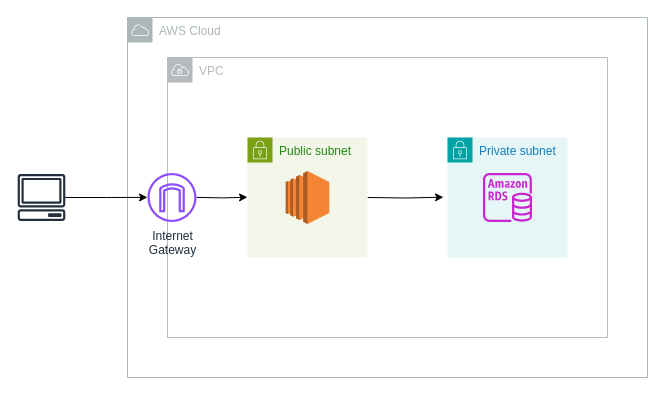
Image size: 665x395. Some labels were removed from this diagram. Here are the shapes that lost their labels. From the top down, the centre of each, then its label:
At point 41,197: "Client".
At point 307,197: "EC2 (Bastion Host)".
At point 507,197: "RDS MariaDB".
